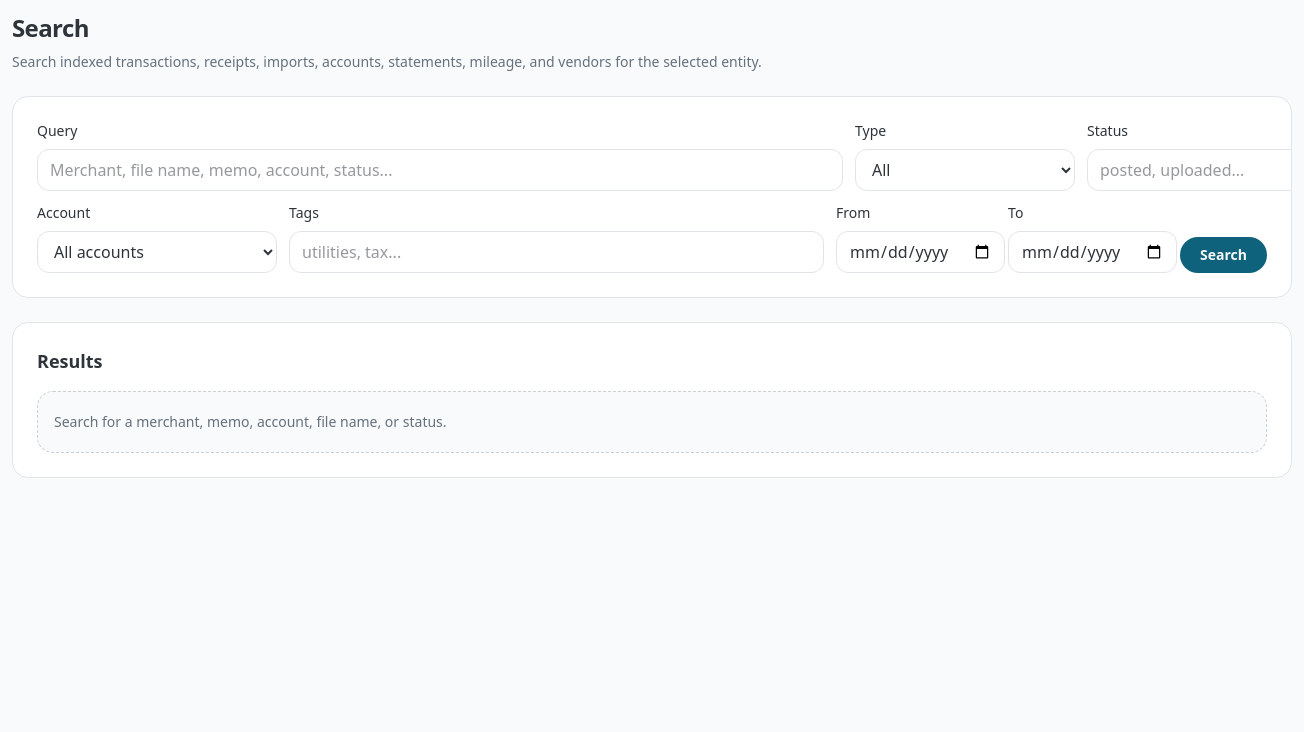
Test case: Search page › searches unified indexed documents
Type "office" into the search field labelled "Query" at coordinates (440, 170), box x1=37 y1=149 x2=843 y2=191
Select "Receipts" in the dropdown labelled "Type" at coordinates (965, 170), box x1=855 y1=149 x2=1075 y2=191
Type "uploaded" into the field labelled "Status" at coordinates (1190, 170), box x1=1087 y1=149 x2=1292 y2=191
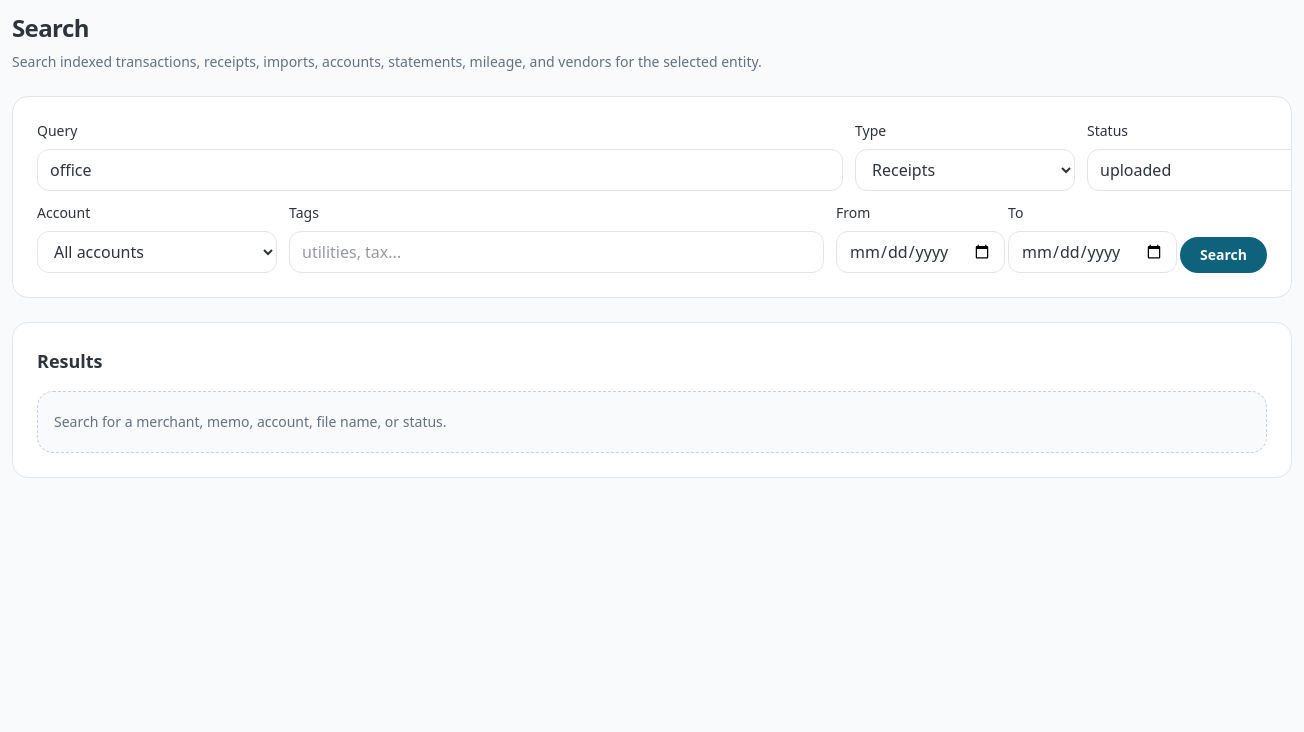
Select "Internet" in the dropdown labelled "Account" at coordinates (157, 252), box x1=37 y1=231 x2=277 y2=273
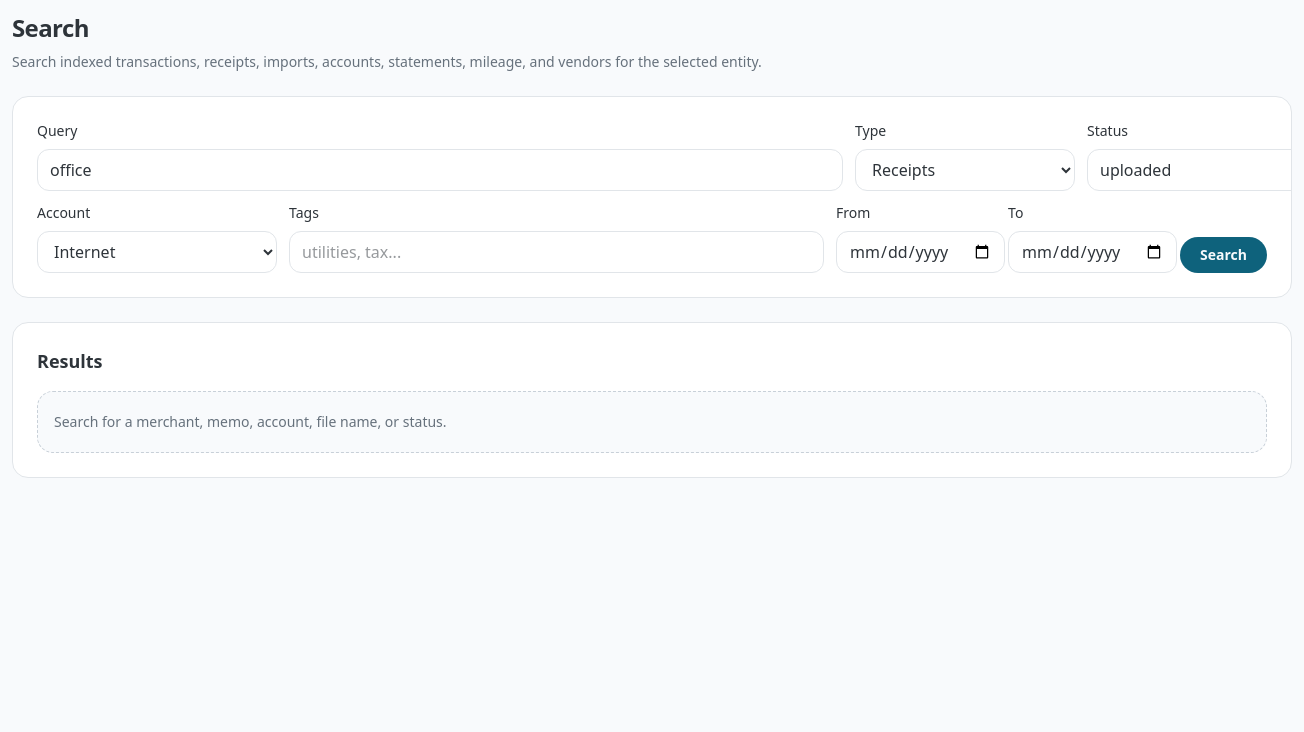
Type "tax" into the field labelled "Tags" at coordinates (557, 252), box x1=289 y1=231 x2=824 y2=273
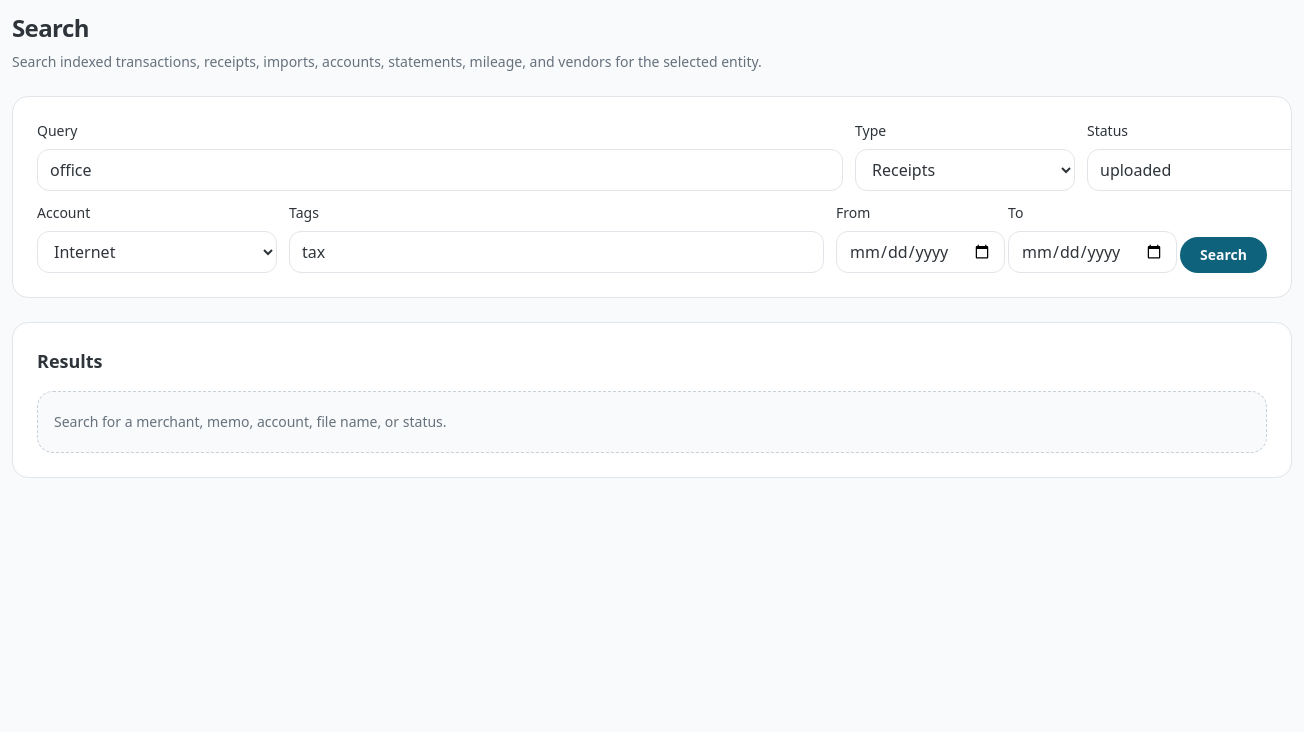
Type "2026-01-01" into the date field labelled "From" at coordinates (921, 252), box x1=836 y1=231 x2=1005 y2=273
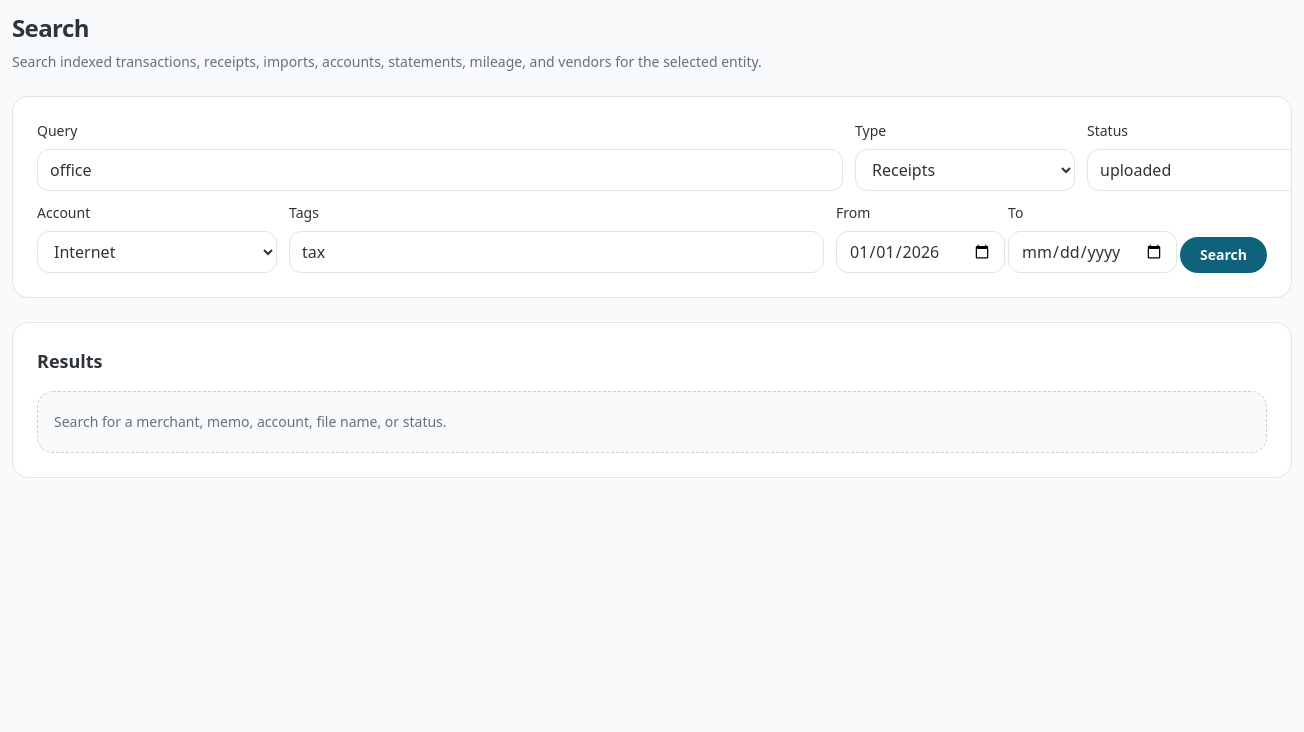
Type "2026-01-31" into the date field labelled "To" at coordinates (1093, 252), box x1=1008 y1=231 x2=1177 y2=273
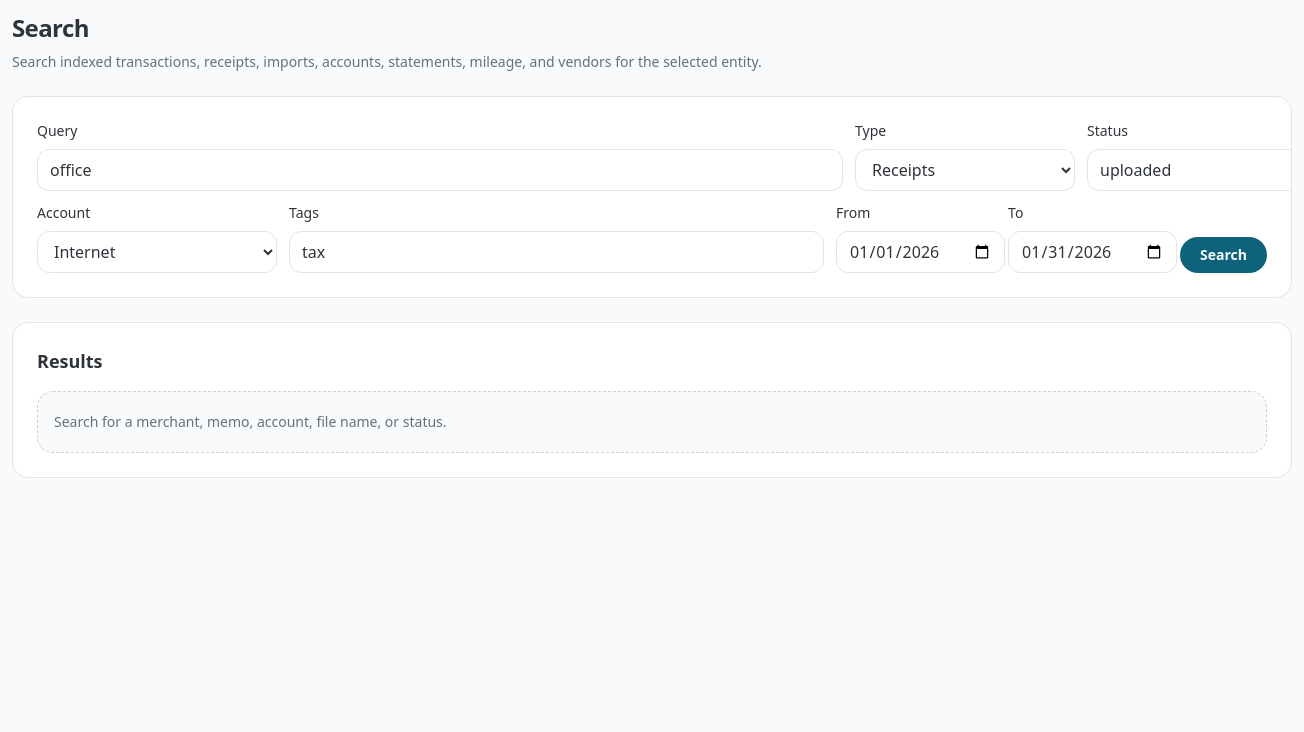
Click the button "Search" at coordinates (1224, 255), box x1=1180 y1=237 x2=1267 y2=273
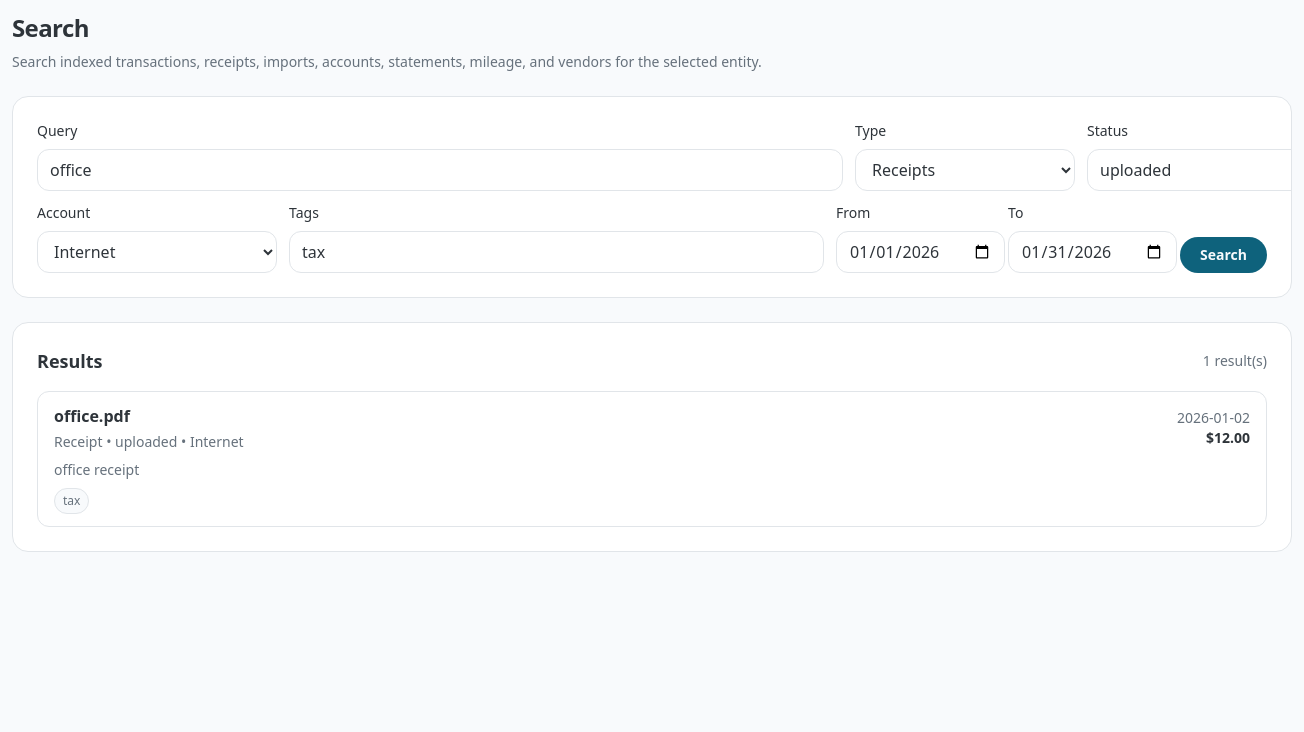
Check: the text "office.pdf" is shown, box x1=54 y1=405 x2=130 y2=427
Check: the text "$12.00" is shown, box x1=1206 y1=428 x2=1250 y2=447
Check: the text "tax" is shown, box x1=54 y1=488 x2=89 y2=514
